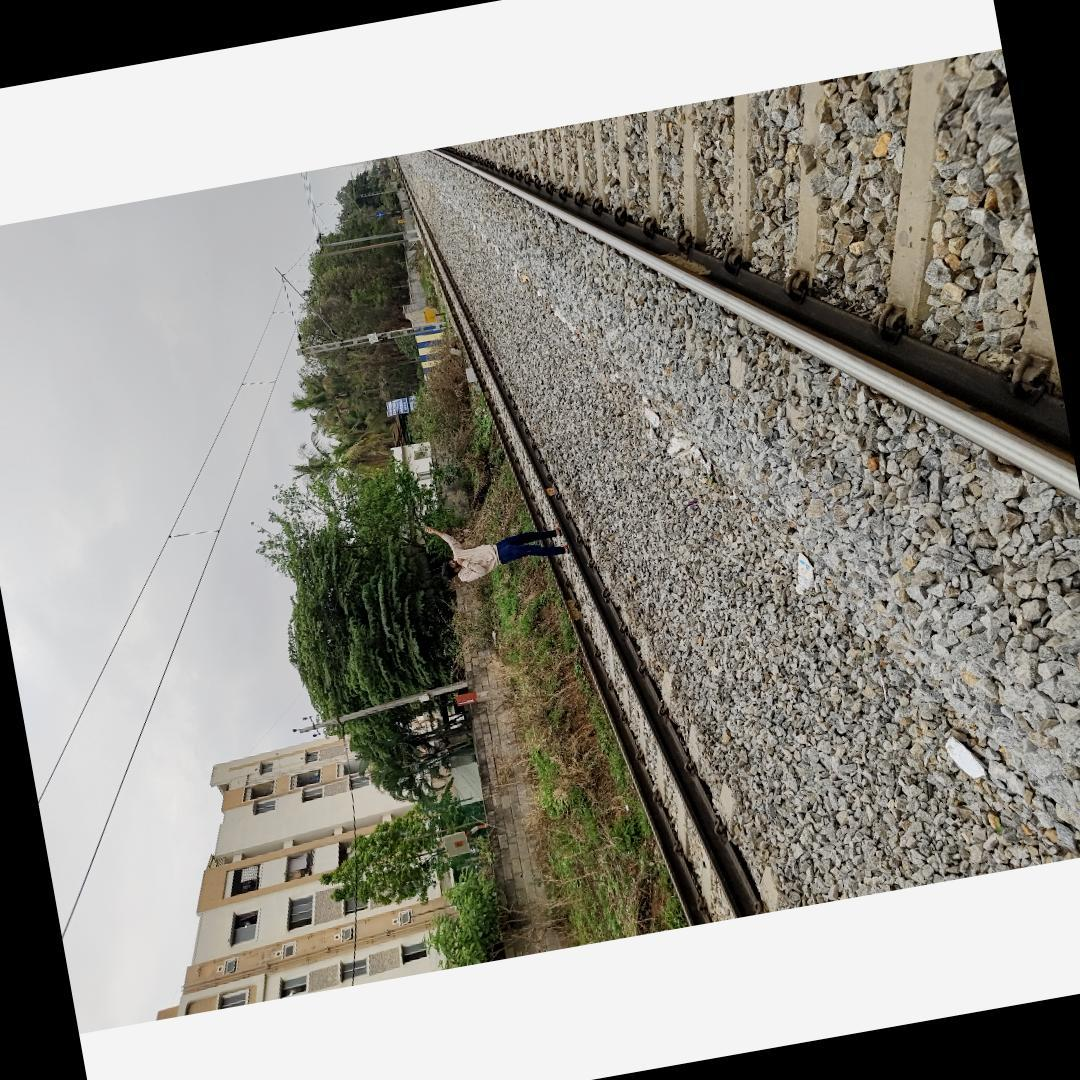standing: (421, 499, 571, 588)
track: (389, 154, 772, 925)
